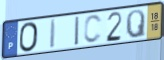2: (106, 11, 123, 44)
C: (83, 13, 104, 45)
I: (49, 18, 58, 51), (74, 15, 81, 47)
O: (19, 21, 40, 54)
Q: (125, 8, 147, 40)
